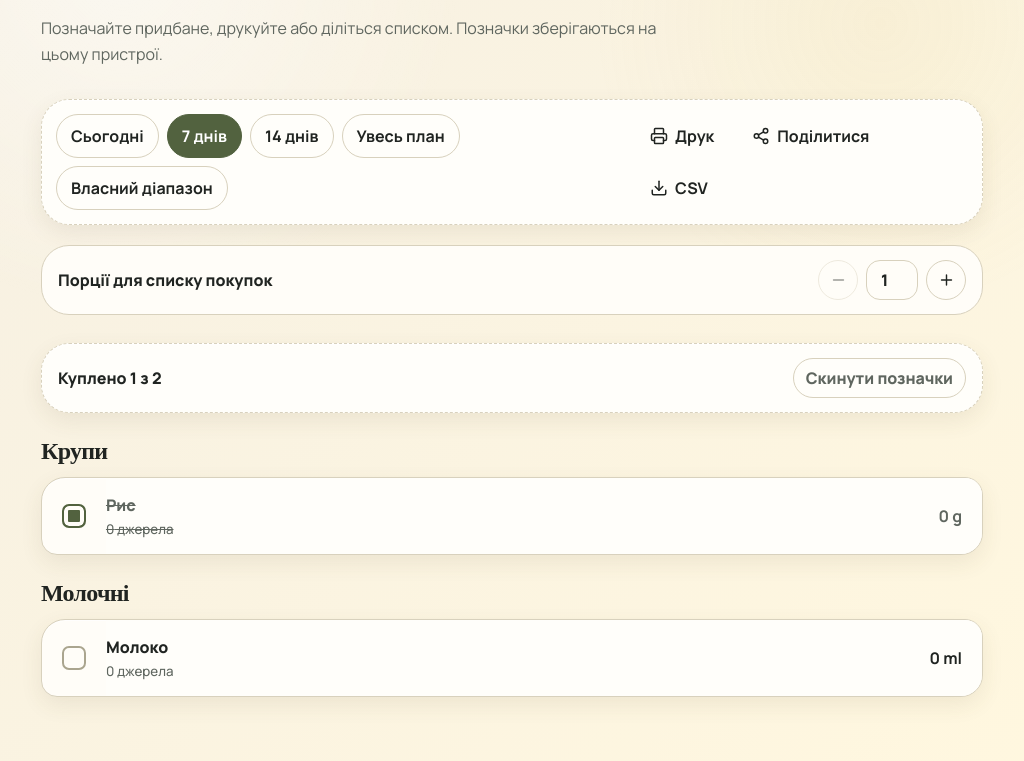
Test: ShoppingListPage › restores and toggles local purchase marks for the selected range
This screenshot has width=1024, height=761.
(page scrolled)
Check: the message named "Прогрес покупок" reads "Куплено 1 з 2", box [58,366,162,391]
Check: the checkbox named "Куплено: Рис" is checked, box [62,504,86,528]
What coordinates should you click on to do the following:
click the checkbox named "Куплено: Молоко"
I would click on:
 (74, 658)
Its box is [62,646,86,670].
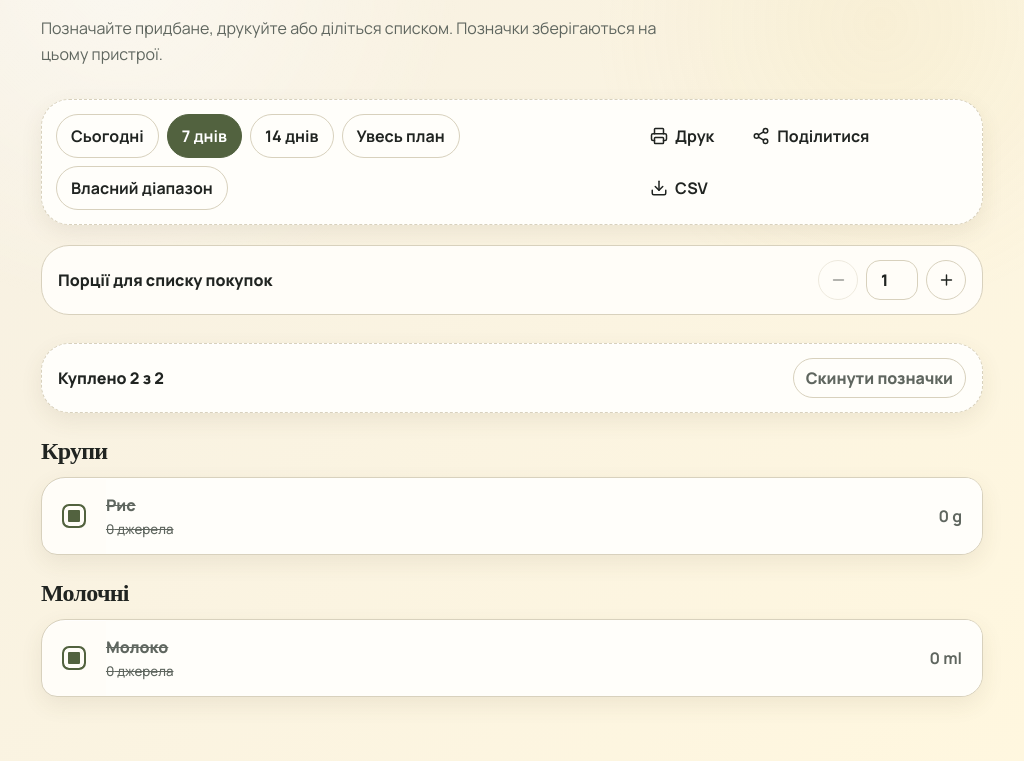
Check: the checkbox named "Куплено: Молоко" is checked, box [62,646,86,670]
Check: the message named "Прогрес покупок" reads "Куплено 2 з 2", box [58,366,164,391]
What coordinates should you click on to do the following:
click the button "14 днів"
I would click on:
 (292, 136)
Its box is [250,114,334,158].
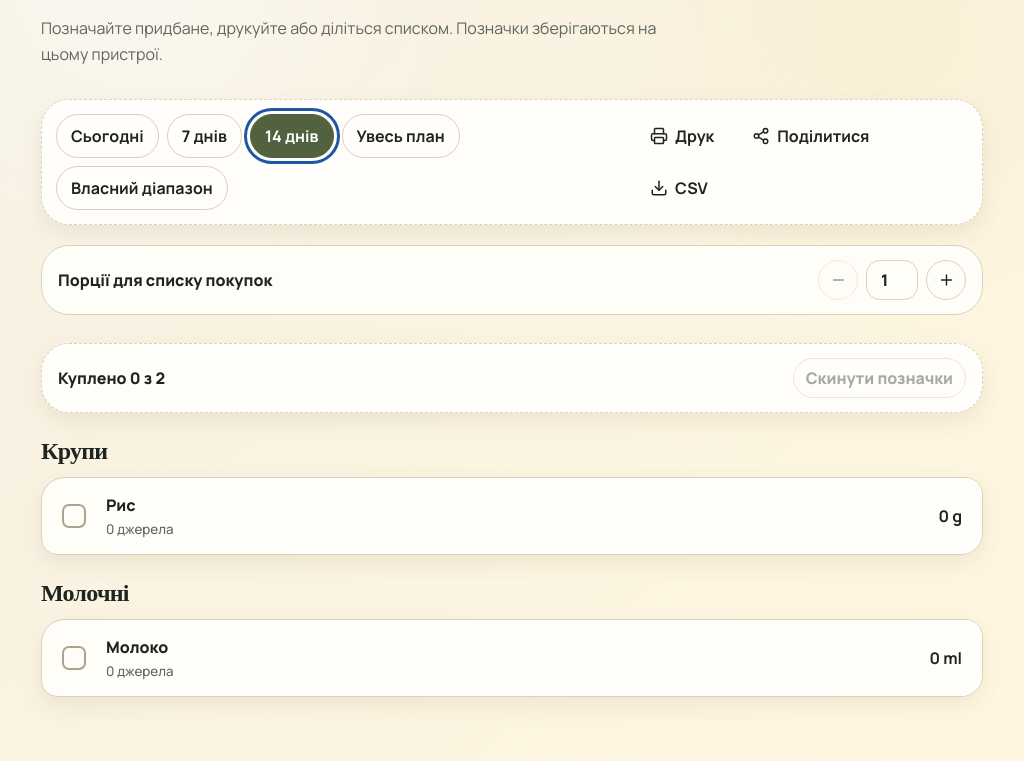
Check: the message named "Прогрес покупок" reads "Куплено 0 з 2", box [58,366,165,391]
What coordinates should you click on to do the following:
click the button "7 днів"
I would click on:
 (204, 136)
Its box is [167,114,242,158].
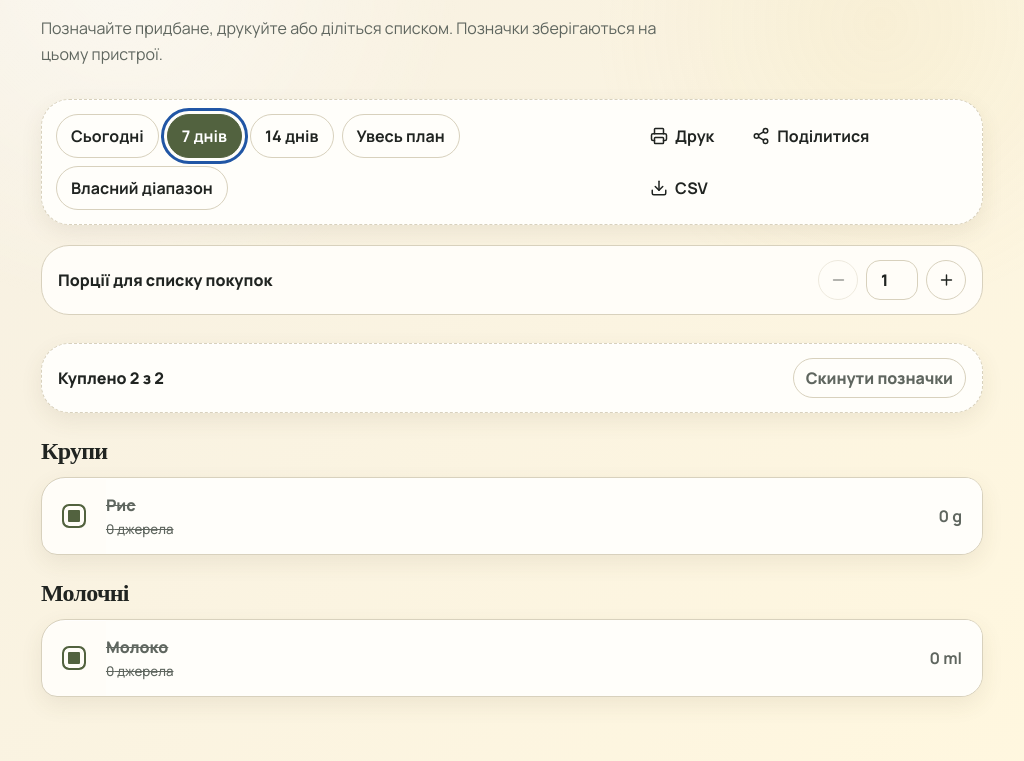
Check: the message named "Прогрес покупок" reads "Куплено 2 з 2", box [58,366,164,391]
What coordinates should you click on to do the following:
click the button "Скинути позначки"
I would click on:
 (879, 378)
Its box is [793,358,966,398].
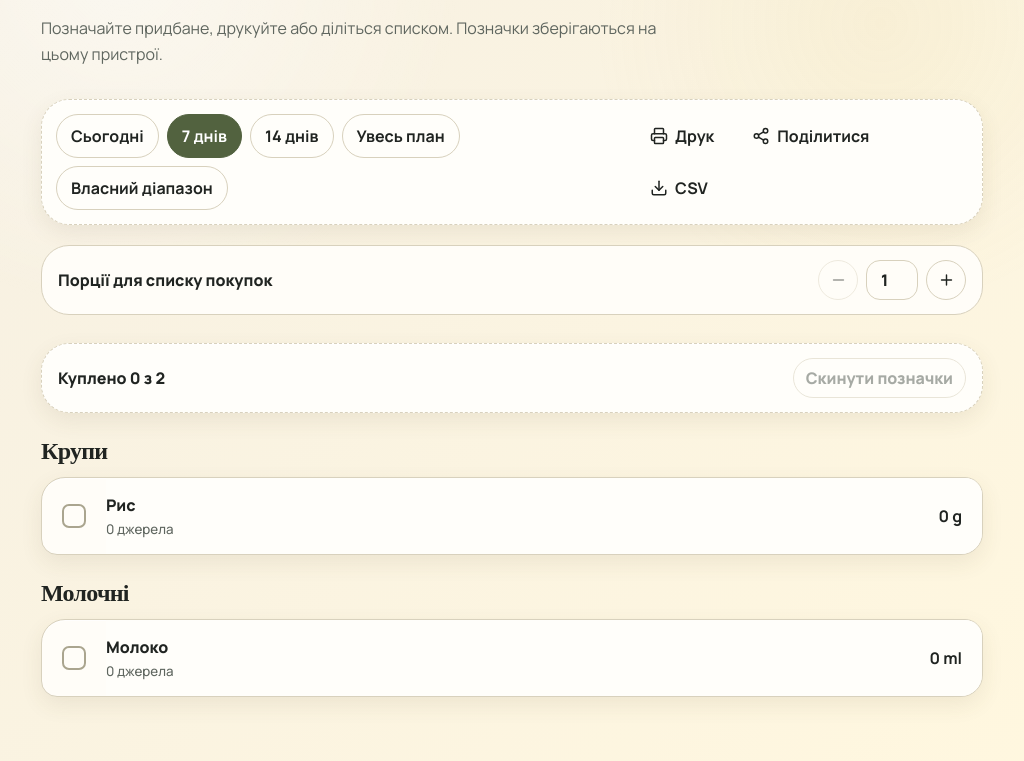
Check: the checkbox named "Куплено: Рис" is not checked, box [62,504,86,528]
Check: the checkbox named "Куплено: Молоко" is not checked, box [62,646,86,670]
Check: the message named "Прогрес покупок" reads "Куплено 0 з 2", box [58,366,165,391]
